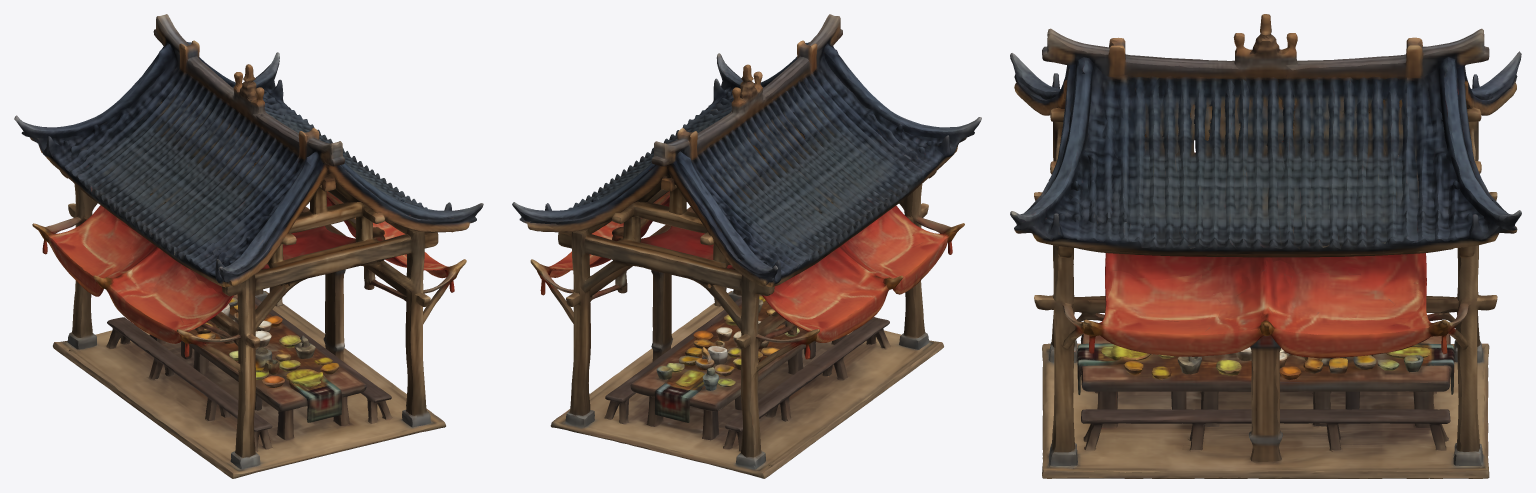
File: long-table-pavilion.optimized.glb
3 views of the same model, side by side, from view 1: azimuth 30°, elevation 25°; view 2: azimuth 150°, elevation 25°; view 3: azimuth 270°, elevation 25° (orthographic). The views are drawn at different scales.
Parts seen in each view (by area): view 1: geometry_0; view 2: geometry_0; view 3: geometry_0.
Boxes of the visible parts, left/top/right/bottom form: geometry_0: left=14, top=14, right=483, bottom=478; geometry_0: left=512, top=14, right=981, bottom=478; geometry_0: left=1010, top=14, right=1521, bottom=478.
Size of the model in its own units: 6 by 5.95 by 6.89.
Materials: 1 (1 with a texture image).
